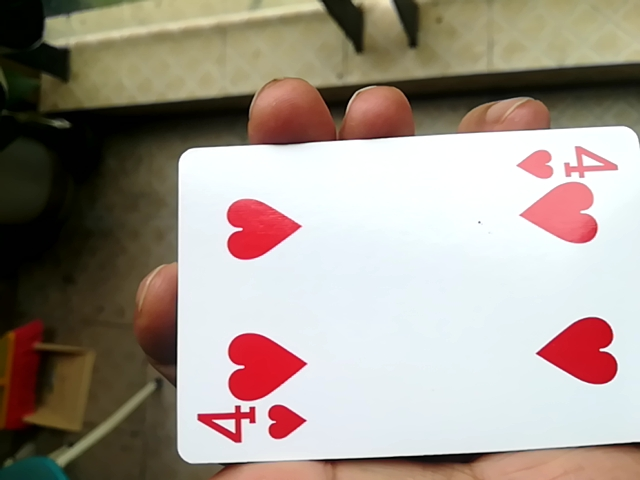hx 4: (172, 122, 637, 472)
